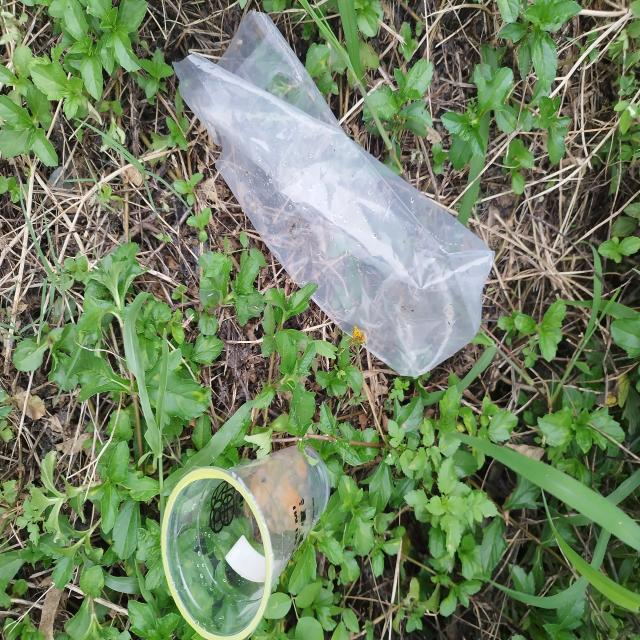bag: (174, 10, 495, 378)
plastic glass: (161, 440, 332, 640)
